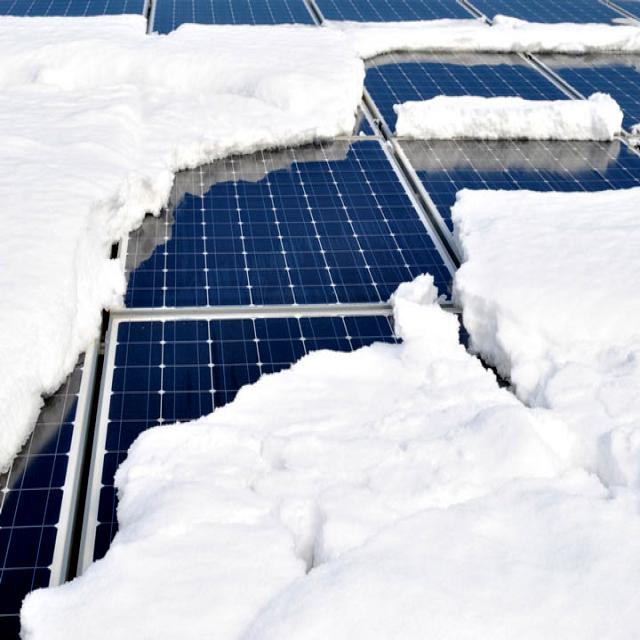panel: (131, 322, 470, 458), (0, 262, 115, 462), (2, 517, 174, 640), (393, 83, 640, 166), (348, 0, 640, 69), (400, 175, 517, 342), (159, 88, 360, 180), (66, 174, 210, 275), (138, 0, 338, 43), (0, 0, 123, 53)
